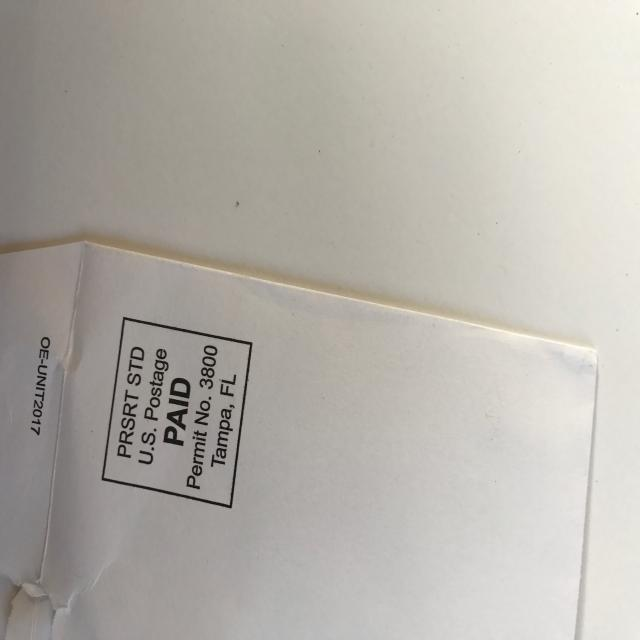paper: (1, 238, 599, 639)
